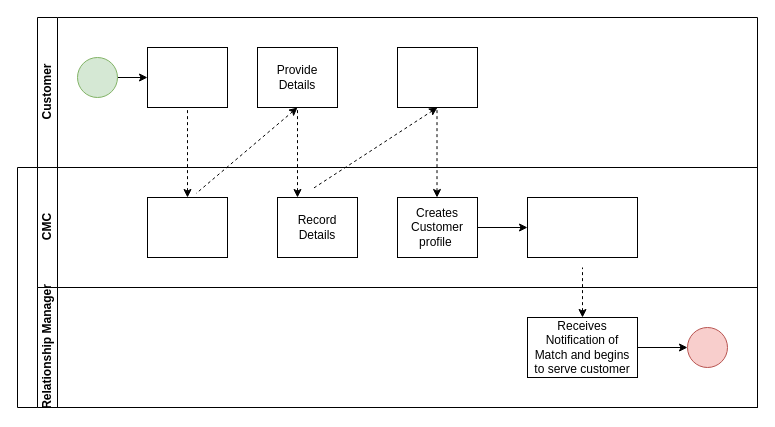
Some shapes in this 775 by 427 pixel diagram are drawn without their labels. Each missing label, with the centre of its shape:
Answer Call: (x=187, y=227)
Call Company: (x=187, y=77)
Confirms details by dialing "1": (x=437, y=77)
Matches Customer with RM and "presses redirect call": (x=582, y=227)
